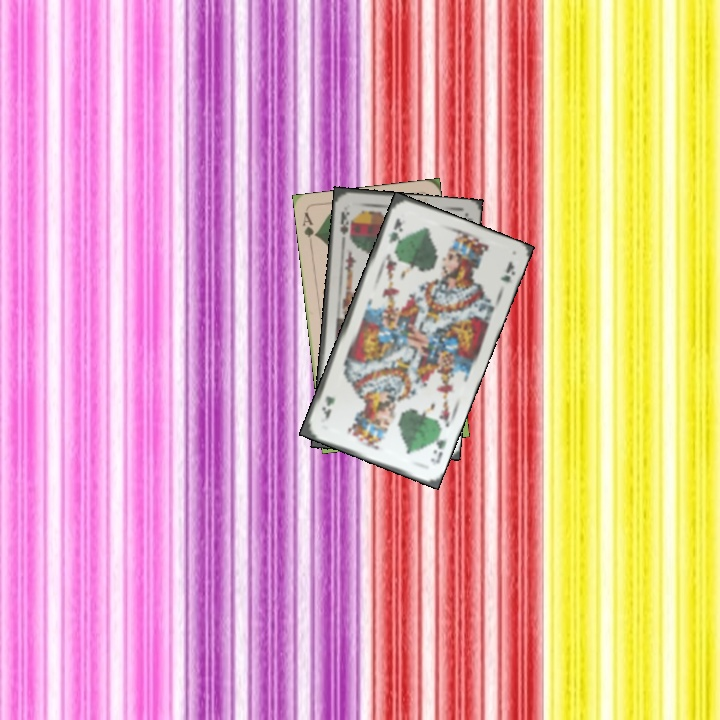GA: (299, 208, 320, 249)
GK: (383, 214, 405, 251), (426, 435, 449, 466)
SK: (336, 207, 354, 242)
